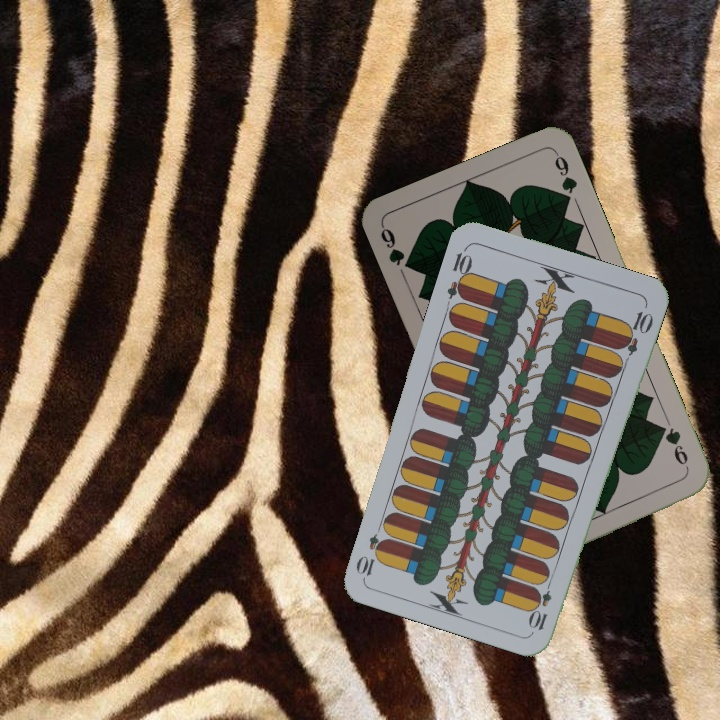E10: (443, 243, 475, 302), (527, 574, 555, 633)
G9: (376, 222, 417, 274), (655, 421, 692, 474)
